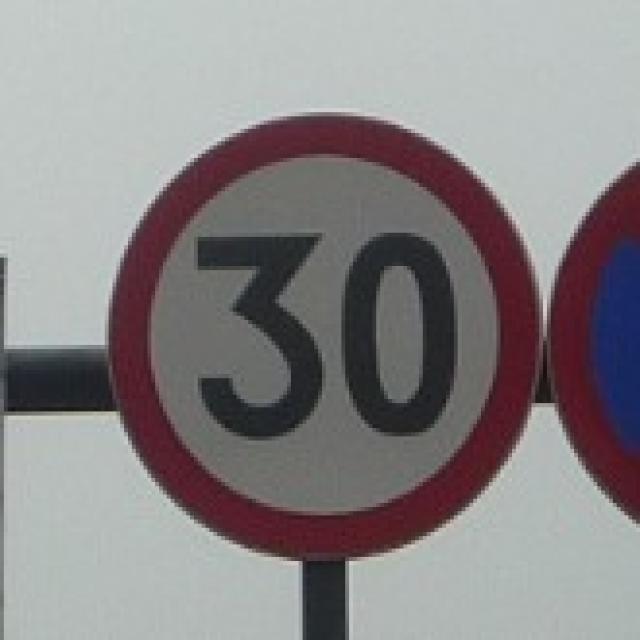Speed Limit -30-: (188, 226, 458, 450)
